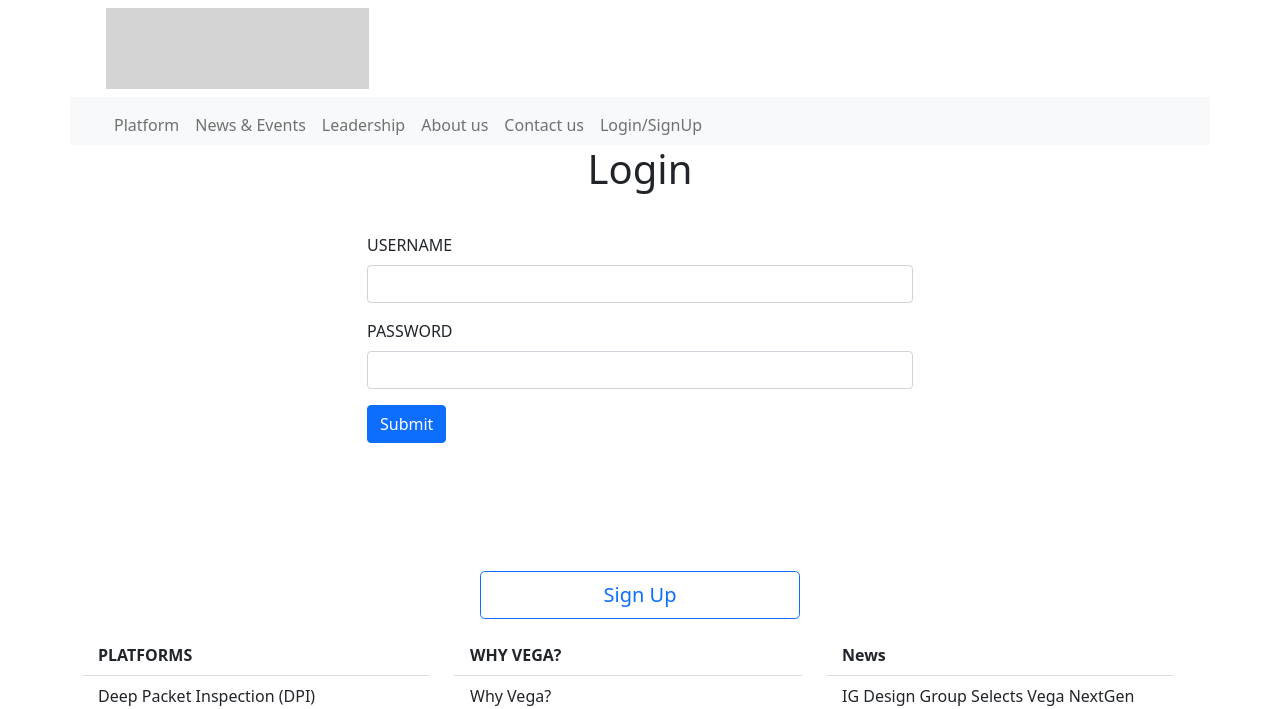
Scenario: Login › form › displays error message when both username and password fields are unfilled
This screenshot has width=1280, height=709.
Click the button "Submit" at {"x": 407, "y": 424}, box [367,405,446,443]
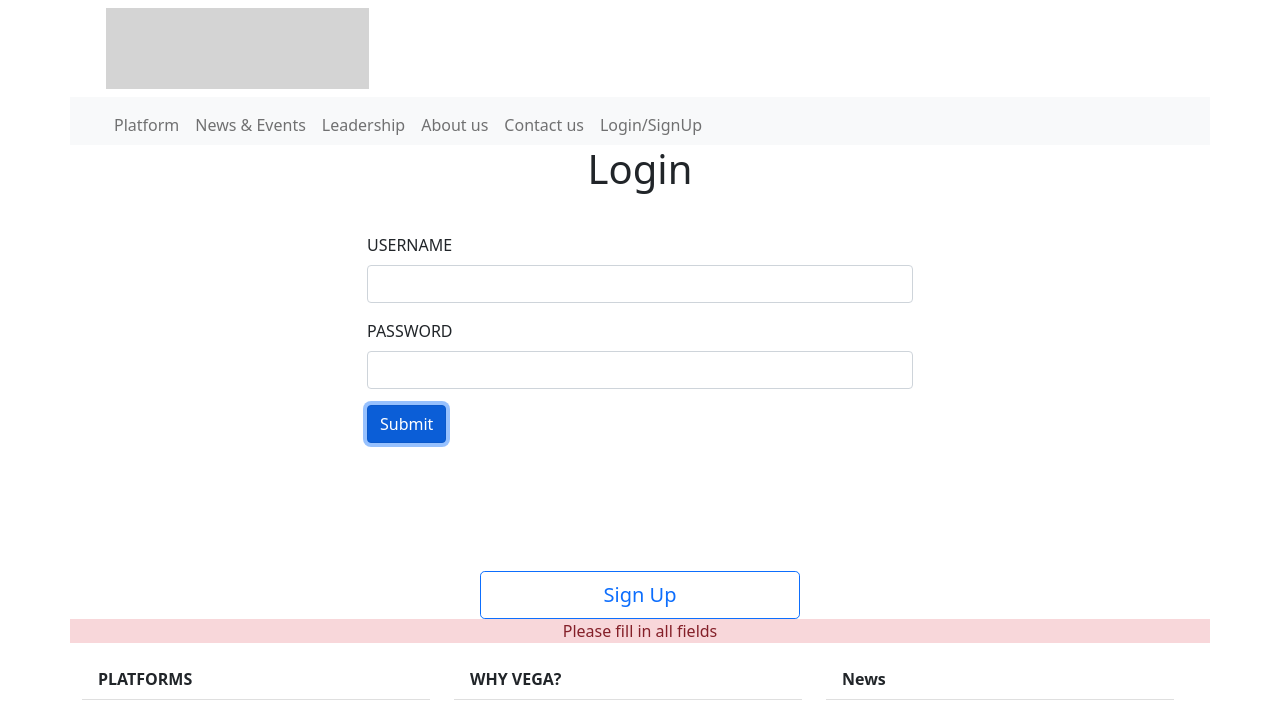
expect the text "Please fill in all fields" is shown: met, box [70,619,1210,643]
